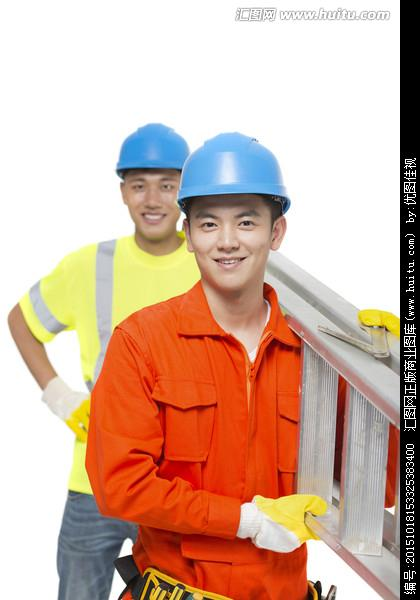helmet: (178, 131, 294, 217), (113, 123, 193, 180)
